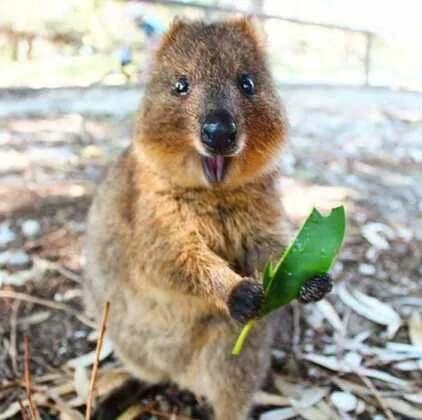quokka: (67, 7, 328, 420)
